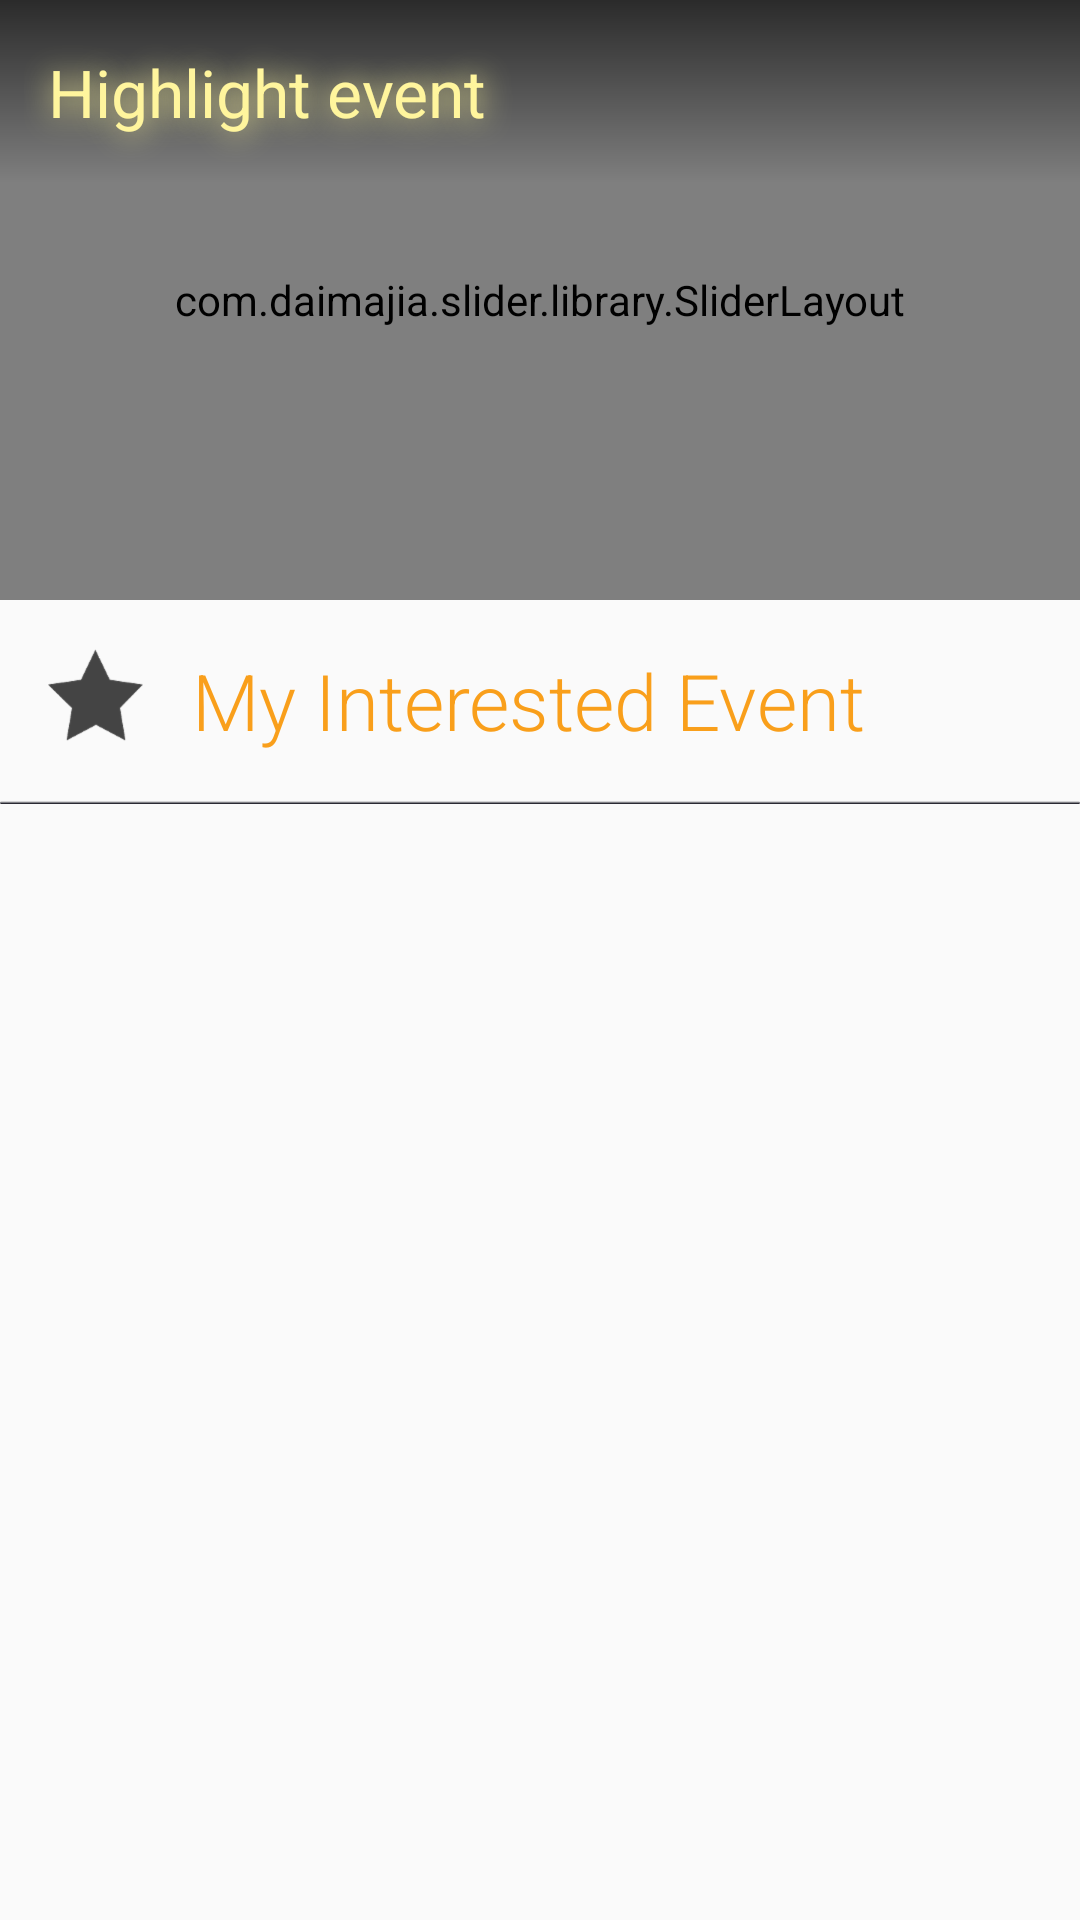

Locate icon controls on the screen. Image size 1080 x 1920, boxes as (x1, y1, x2, y2).
star: (48, 650, 143, 741)
